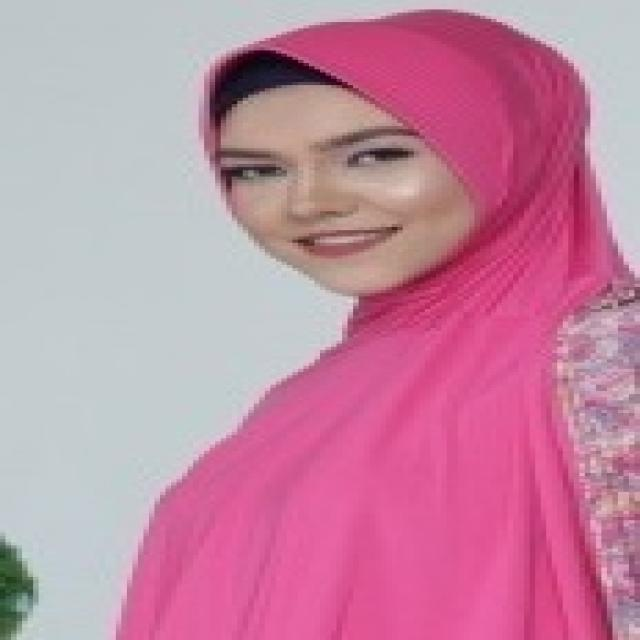head: (189, 10, 566, 307)
